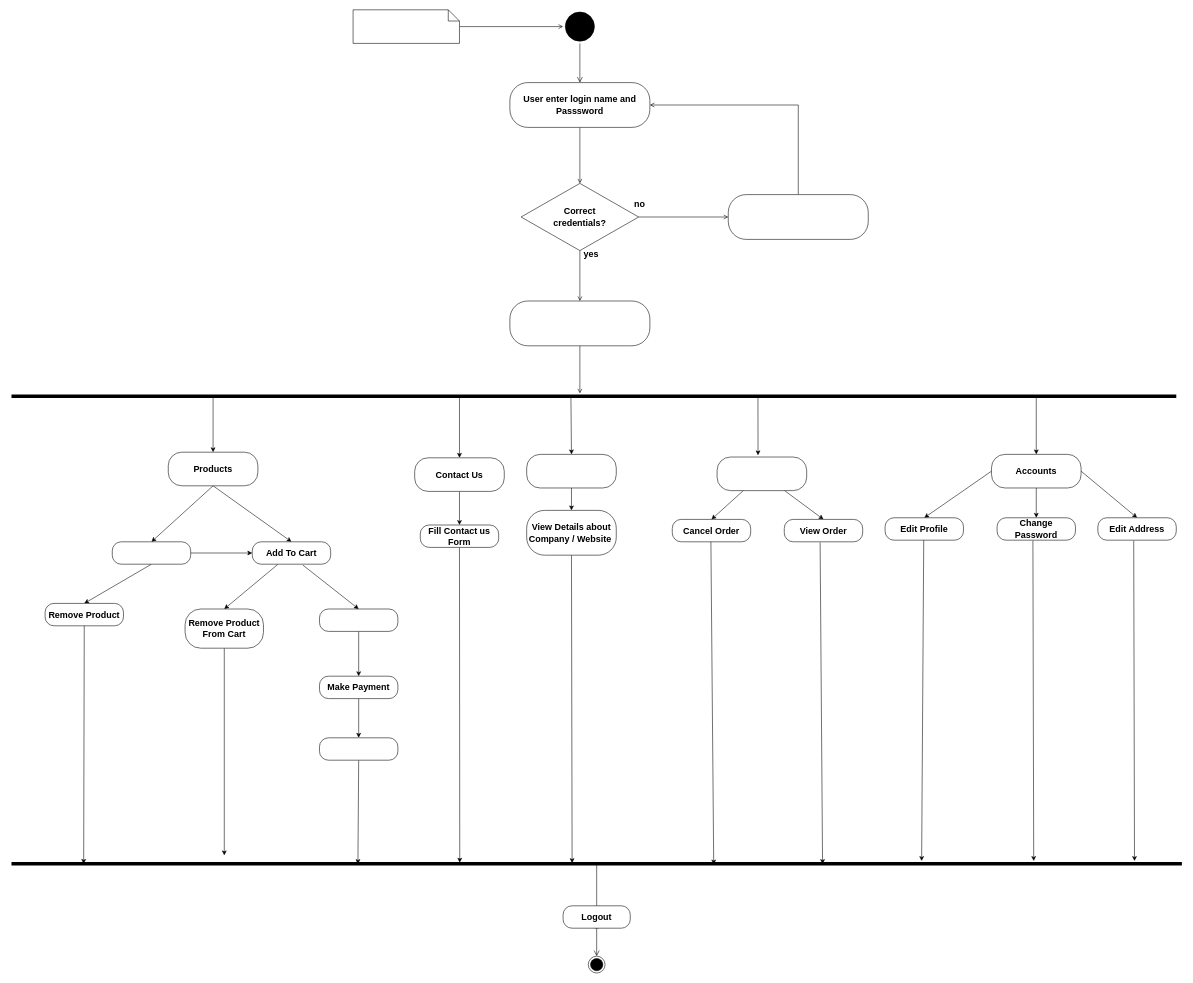
Image size: 1193x983. Some labels were removed from this diagram. The shapes that lost their labels are listed below. From the top down, each one's box as (x1, y1, x2, y2) in pixels, then its label:
(353, 9, 459, 43): User is Registered
(728, 194, 868, 239): Invalid Login/Password
(509, 300, 650, 346): Home Page
(526, 454, 616, 488): About Us
(717, 456, 807, 491): Orders
(112, 541, 191, 564): Add To Wishlist
(319, 608, 398, 631): Checkout
(319, 737, 398, 760): Confirm Order
